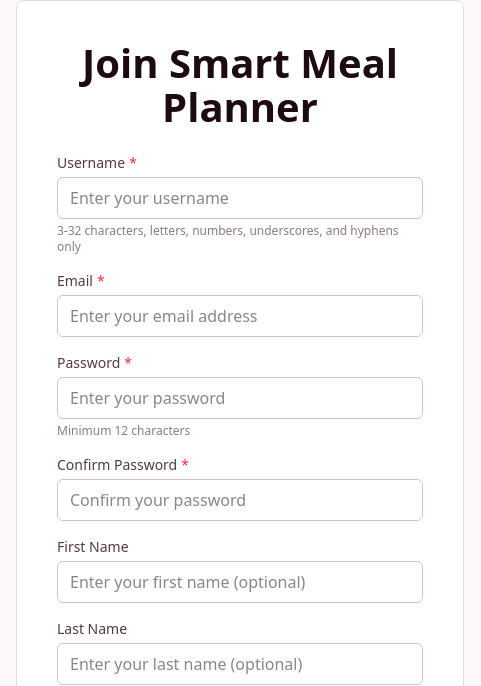
Test case: RegisterPage › Validation Tests › validates username - required
Click the field labelled "Username*" at (240, 198), box [57,177,423,219]
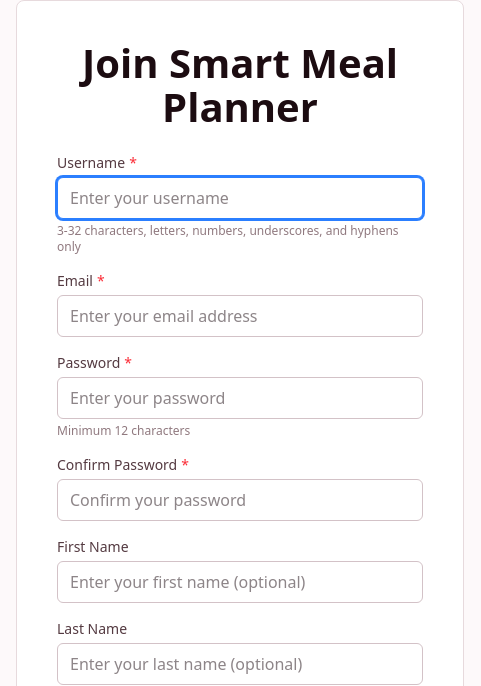
Press Tab
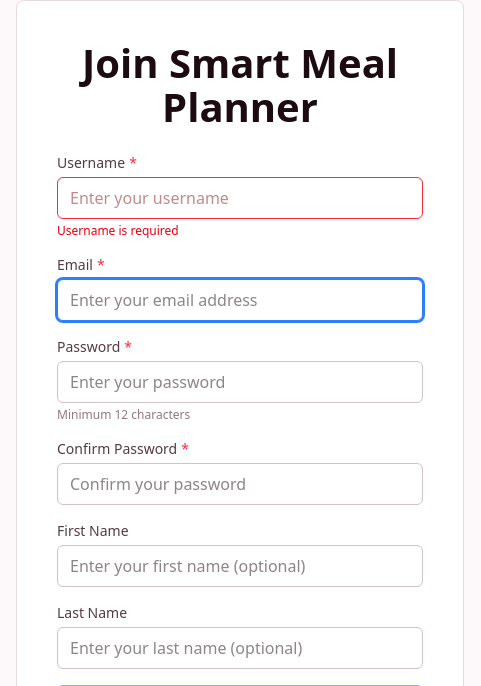
Result: the text "Username is required" is shown at [57,222,179,239]
